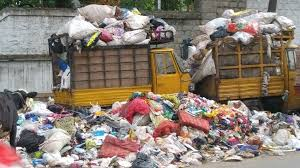garbage: (29, 107, 262, 168), (129, 92, 212, 165), (69, 9, 160, 43), (208, 15, 293, 38)
